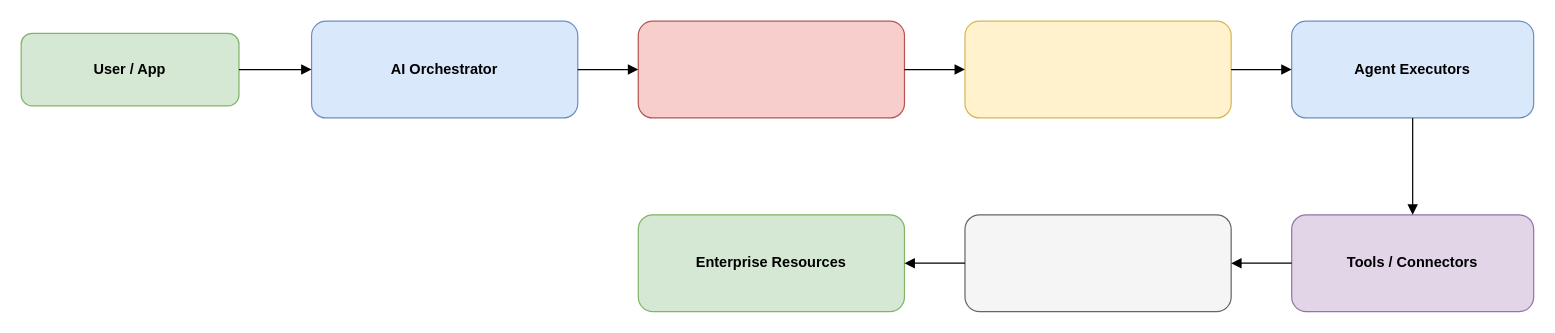
Image size: 1555x333. Some labels were removed from this diagram. The centre of each missing label's shape, as x and y in pixels:
"AI Agent Gateway" goes at point (1097, 69).
"AI Integration Service" goes at point (1097, 263).
"AI Platform Kernel" goes at point (770, 69).
